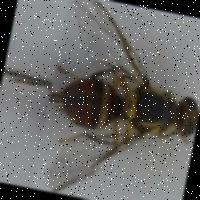Oriental-fruit-fly: (32, 0, 200, 200)
